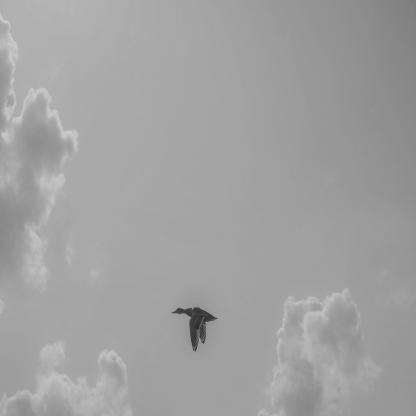bird: (172, 306, 218, 352)
